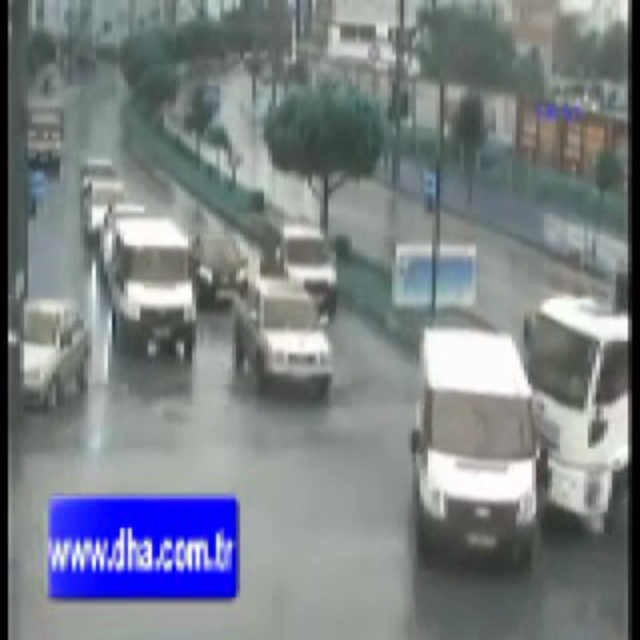acc: (403, 288, 633, 572)
